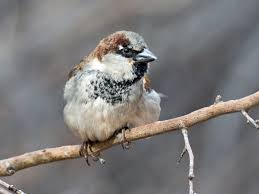hsparrow: (57, 27, 164, 166)
